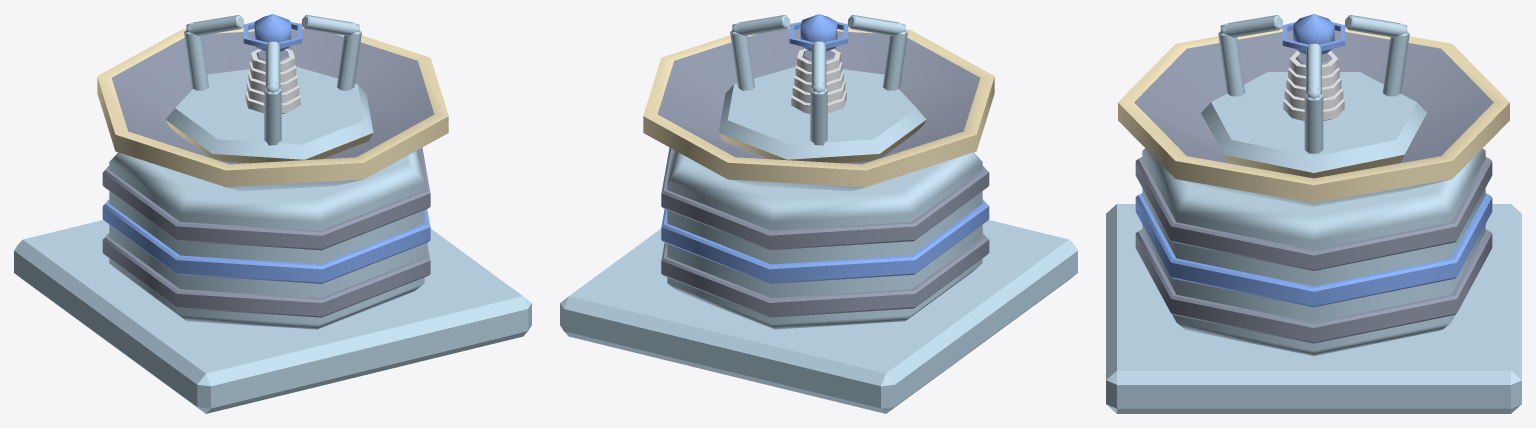
Rendered from R4X_EMPTrapDeployer_LOD1.glb.
3 renders of one model, left to right at view 1: azimuth 30°, elevation 25°; view 2: azimuth 150°, elevation 25°; view 3: azimuth 270°, elevation 25°, orthographic. The views are drawn at different scales.
Parts seen in each view (by area): view 1: R4X_EMPTrapDeployer_LOD1; view 2: R4X_EMPTrapDeployer_LOD1; view 3: R4X_EMPTrapDeployer_LOD1.
Boxes of the visible parts, left/top/right/bottom form: R4X_EMPTrapDeployer_LOD1: left=14, top=14, right=531, bottom=413; R4X_EMPTrapDeployer_LOD1: left=560, top=14, right=1077, bottom=413; R4X_EMPTrapDeployer_LOD1: left=1106, top=14, right=1521, bottom=413.
Bounding box in the file's own units: 0.52 × 0.437 × 0.52.
